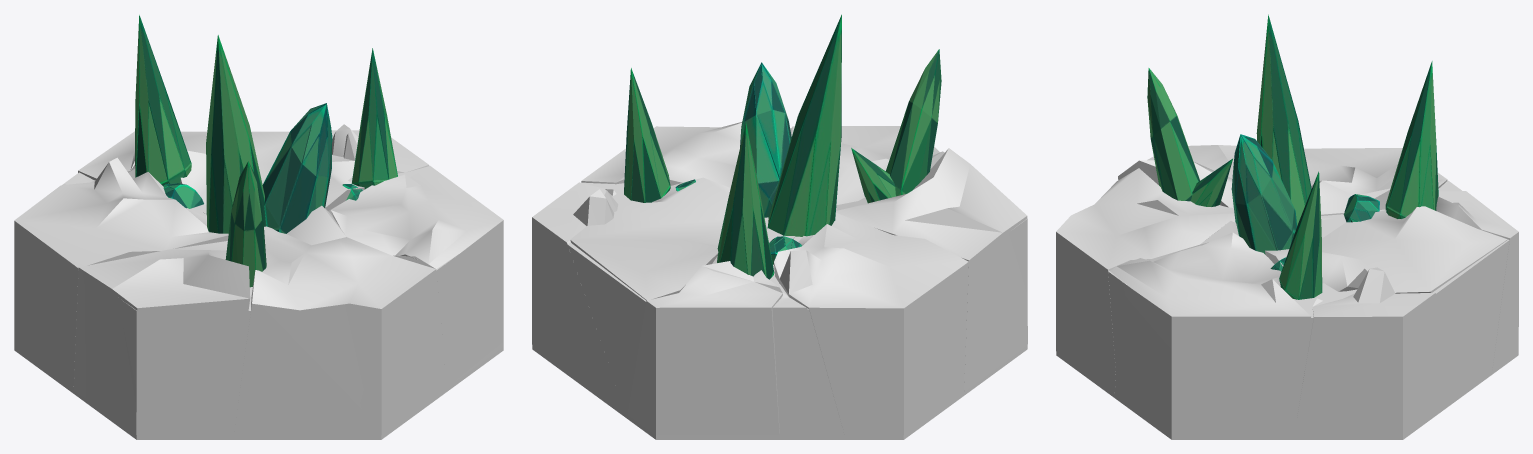
Rendered from gem_l.fbx.
3 views of the same model, side by side, from view 1: azimuth 30°, elevation 25°; view 2: azimuth 150°, elevation 25°; view 3: azimuth 270°, elevation 25° (orthographic). The views are drawn at different scales.
Parts seen in each view (by area): view 1: Cartoon Gem.003, Cylinder.001_cell.006, Cylinder.001_cell.005, Cylinder.001_cell.002, Cartoon Gem.006, Cartoon Gem.001, Cylinder.001_cell.003, Cylinder.001_cell.009, Cylinder.001_cell.010; view 2: Cylinder.001_cell.002, Cylinder.001_cell.006, Cylinder.001_cell.003, Cylinder.001_cell.005, Cartoon Gem.001, Cylinder.001_cell.009, Cylinder.001_cell.004, Cartoon Gem.006, Cartoon Gem.003; view 3: Cartoon Gem.006, Cylinder.001_cell.009, Cylinder.001_cell.006, Cartoon Gem.003, Cartoon Gem.001, Cylinder.001_cell.002, Cylinder.001_cell.003, Cylinder.001_cell.005, Cylinder.001_cell.010.
Boxes of the visible parts, <box> form: Cartoon Gem.003: <box>234,161,444,435</box>; Cylinder.001_cell.006: <box>14,15,503,439</box>; Cylinder.001_cell.005: <box>74,241,250,434</box>; Cylinder.001_cell.002: <box>14,35,265,388</box>; Cartoon Gem.006: <box>328,51,503,364</box>; Cartoon Gem.001: <box>180,103,364,233</box>; Cylinder.001_cell.003: <box>78,17,191,183</box>; Cylinder.001_cell.009: <box>331,124,429,173</box>; Cylinder.001_cell.010: <box>443,337,503,389</box>; Cylinder.001_cell.002: <box>768,15,968,435</box>; Cylinder.001_cell.006: <box>532,14,1027,439</box>; Cylinder.001_cell.003: <box>628,125,782,435</box>; Cylinder.001_cell.005: <box>836,148,1027,391</box>; Cartoon Gem.001: <box>570,62,795,300</box>; Cylinder.001_cell.009: <box>532,182,622,409</box>; Cylinder.001_cell.004: <box>772,292,843,435</box>; Cartoon Gem.006: <box>581,70,790,202</box>; Cartoon Gem.003: <box>790,49,944,210</box>; Cartoon Gem.006: <box>1108,171,1322,435</box>; Cylinder.001_cell.009: <box>1294,267,1487,435</box>; Cylinder.001_cell.006: <box>1056,33,1518,439</box>; Cartoon Gem.003: <box>1056,68,1238,393</box>; Cartoon Gem.001: <box>1253,138,1507,293</box>; Cylinder.001_cell.002: <box>1256,15,1447,225</box>; Cylinder.001_cell.003: <box>1386,61,1518,369</box>; Cylinder.001_cell.005: <box>1118,145,1236,207</box>; Cylinder.001_cell.010: <box>1115,373,1180,435</box>.
Bounding box in the file's own units: 174 × 153 × 200.
